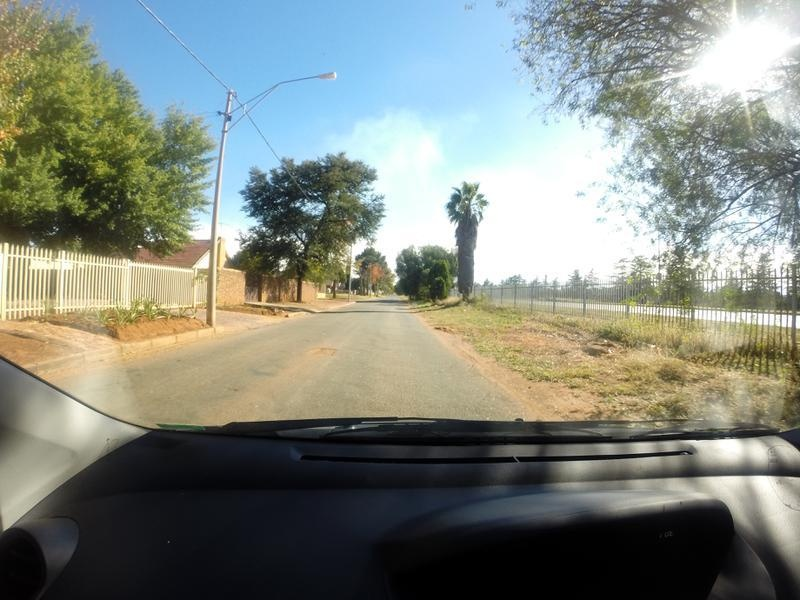pothole: (304, 340, 340, 374)
